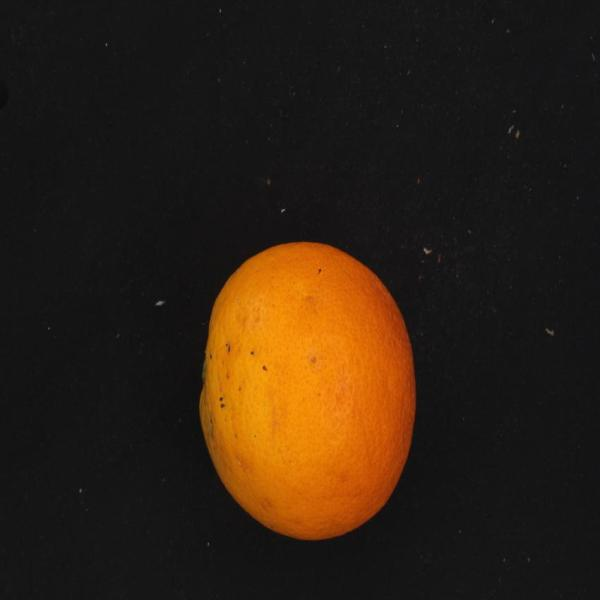Otros defectos: (189, 230, 431, 549)
